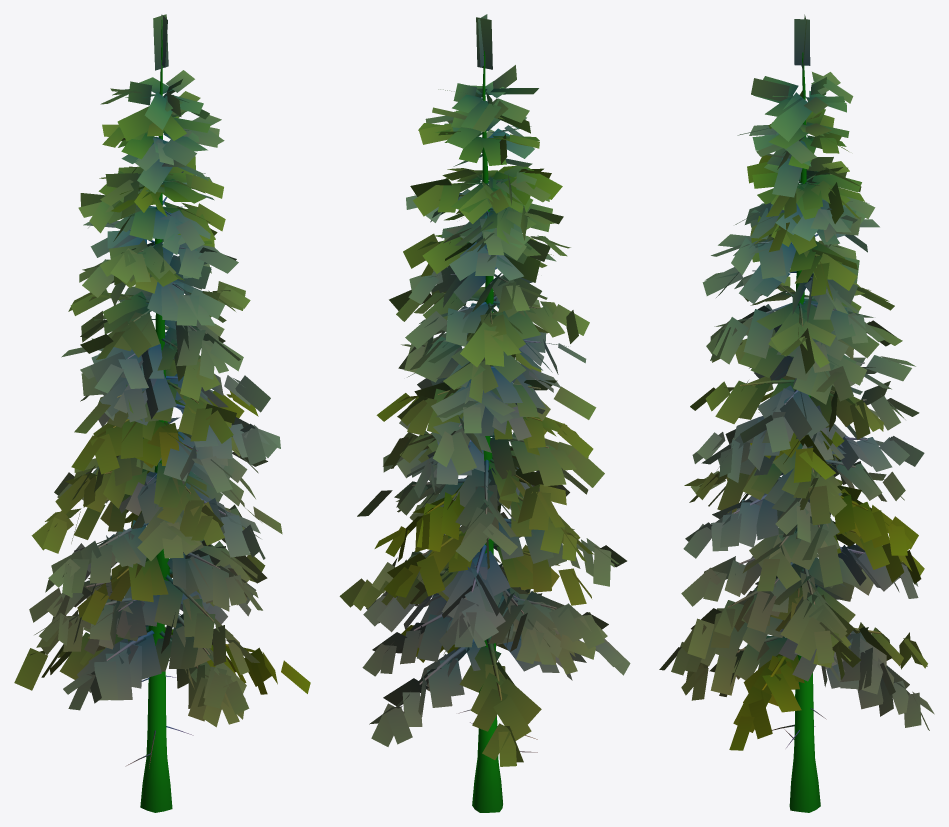
The model's file is larch_a.glb.
3 renders of one model, left to right at view 1: azimuth 30°, elevation 25°; view 2: azimuth 150°, elevation 25°; view 3: azimuth 270°, elevation 25°, orthographic.
Parts seen in each view (by area): view 1: LOD0; view 2: LOD0; view 3: LOD0.
Part boxes in pixels (x1=…): LOD0: x1=14, y1=14, x2=310, y2=812; LOD0: x1=339, y1=14, x2=630, y2=812; LOD0: x1=659, y1=14, x2=934, y2=812.
Size of what is drawn, in the model's own units: 6.1 by 18.46 by 5.84.
